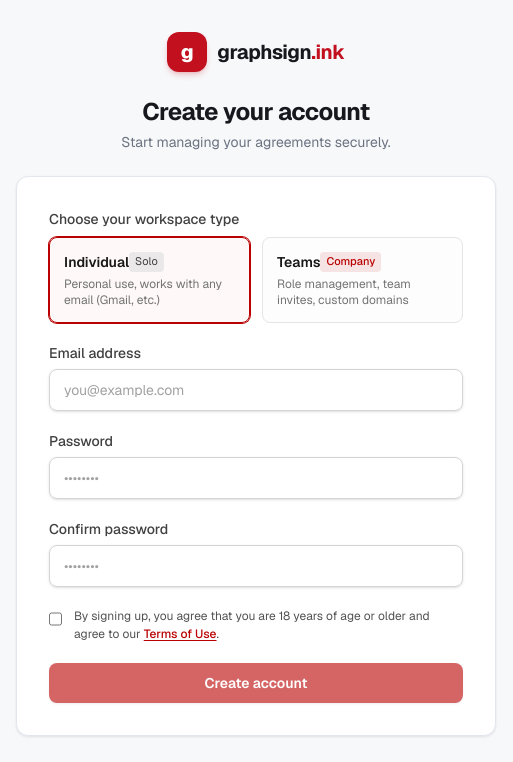
RegisterPage Component Tests (INK-304) › completes registration when all required inputs and terms agreement are provided
Type "test@example.com" into the field with test id "email-input" at x=256, y=390, box [49,369,463,411]
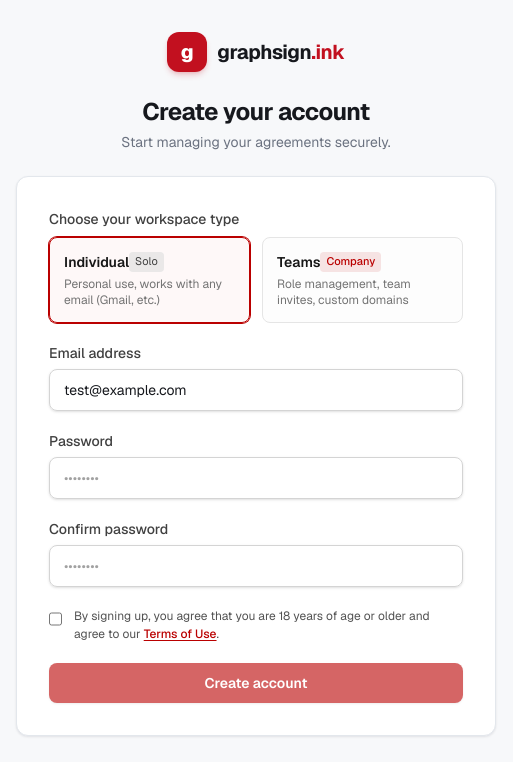
Type "ValidPass123!" into the password field with test id "password-input" at x=256, y=478, box [49,457,463,499]
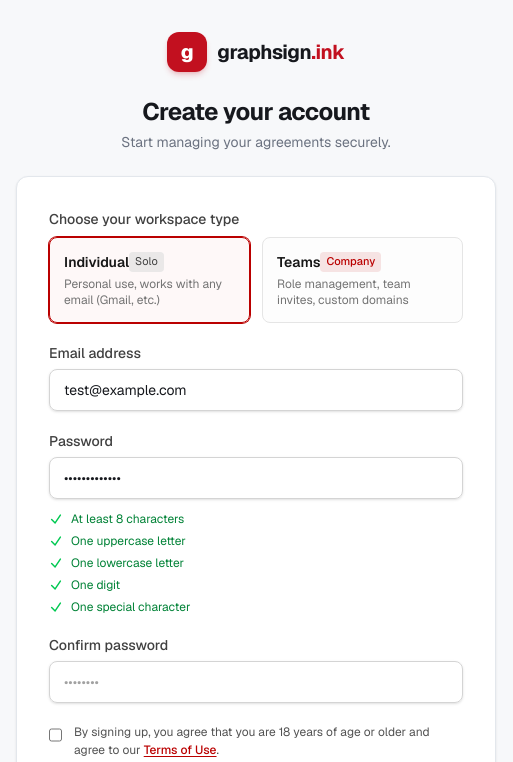
Type "ValidPass123!" into the password field with test id "confirm-password-input" at x=256, y=682, box [49,661,463,703]
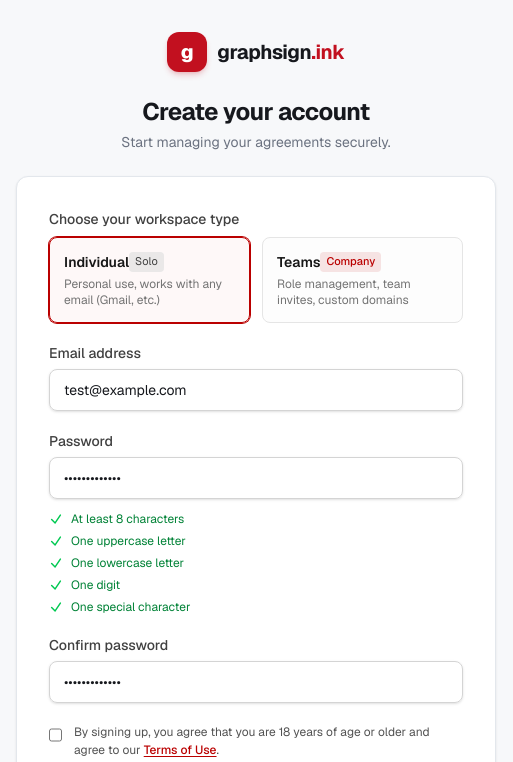
Click the checkbox with test id "terms-checkbox" at x=56, y=735, box [49,727,62,743]
(page scrolled)
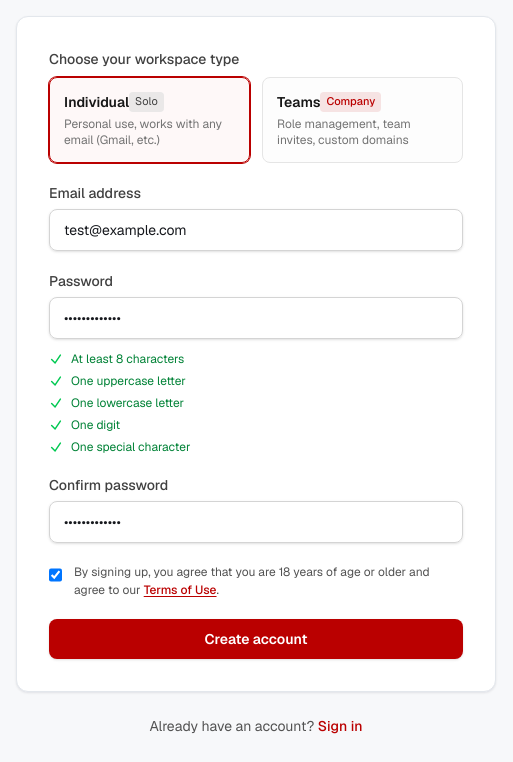
Expected: the button with test id "register-button" is enabled
Click the button with test id "register-button" at x=256, y=639, box [49,619,463,659]
(page scrolled)
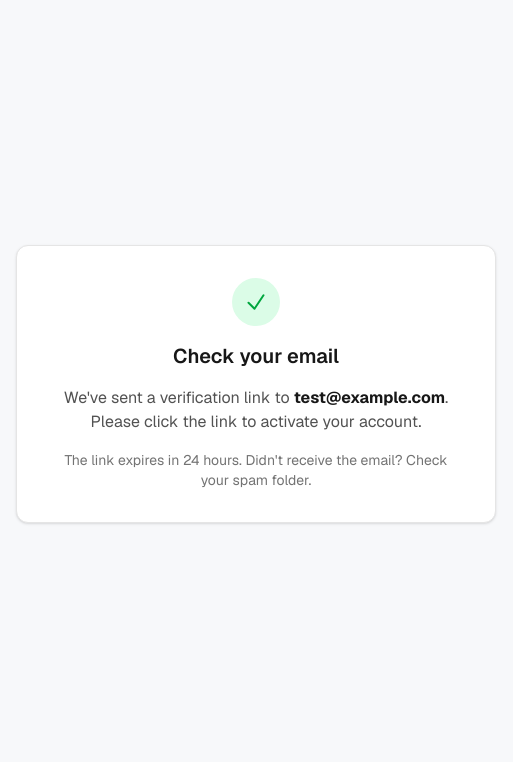
Expected: the message with test id "registration-success" is shown, [16,245,496,523]
